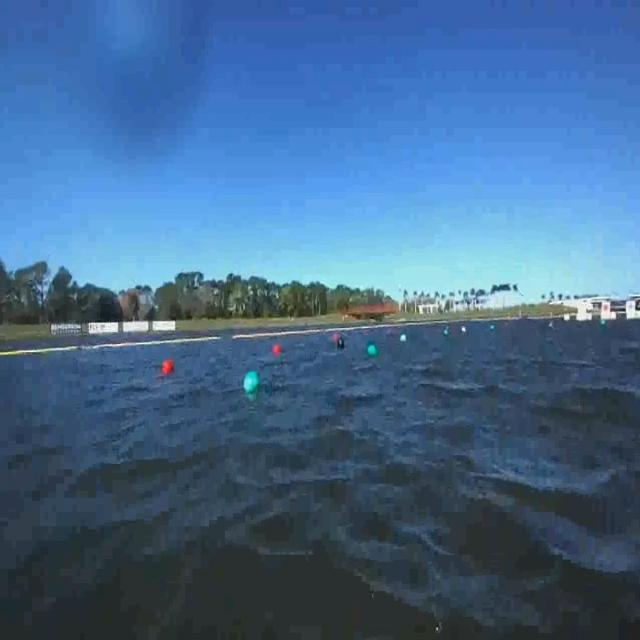green-buoy: (242, 370, 259, 394)
